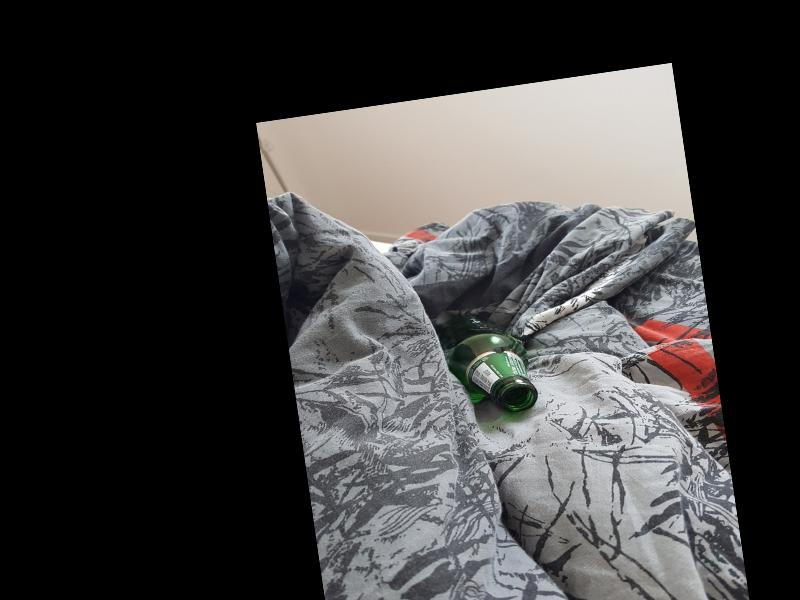Beer: (442, 308, 537, 421)
